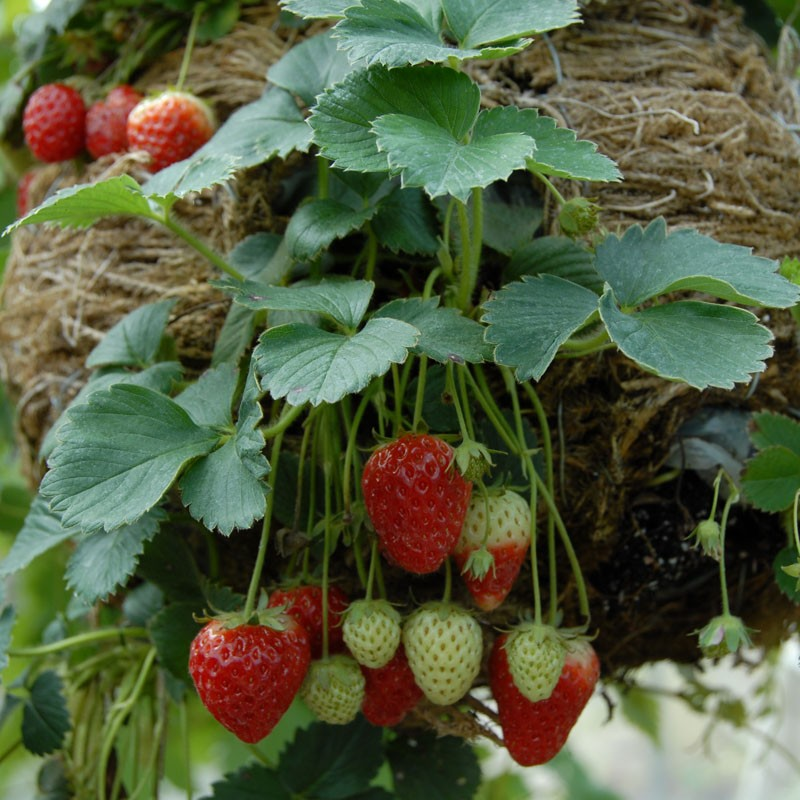ripe_strawberry: (188, 605, 313, 747), (360, 432, 473, 576), (490, 623, 600, 767), (127, 89, 218, 178), (266, 578, 347, 660), (22, 82, 87, 164), (358, 654, 425, 728), (86, 83, 147, 161), (17, 165, 61, 217)
unripe_strawberry: (453, 487, 534, 613), (403, 603, 487, 708), (503, 622, 571, 704), (297, 656, 367, 728), (339, 600, 403, 672)
